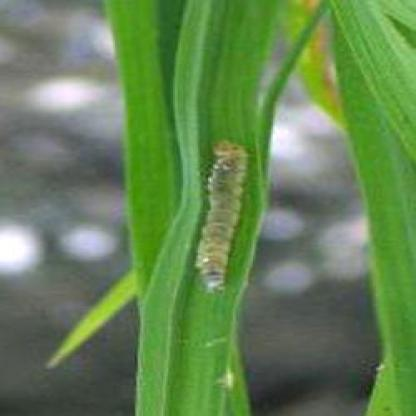leaf-folder: (190, 128, 262, 304)
